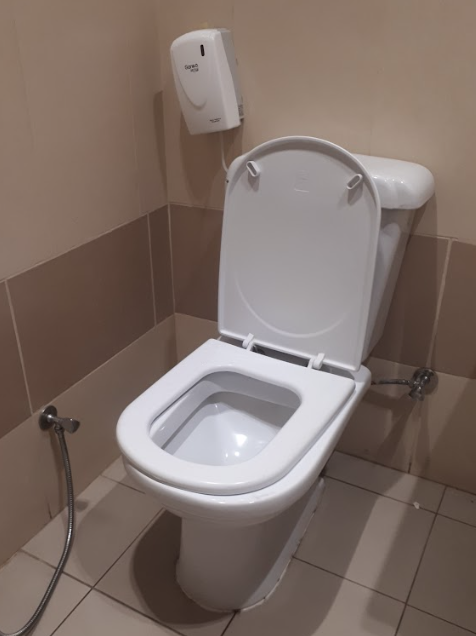Toilet: (107, 18, 451, 624)
